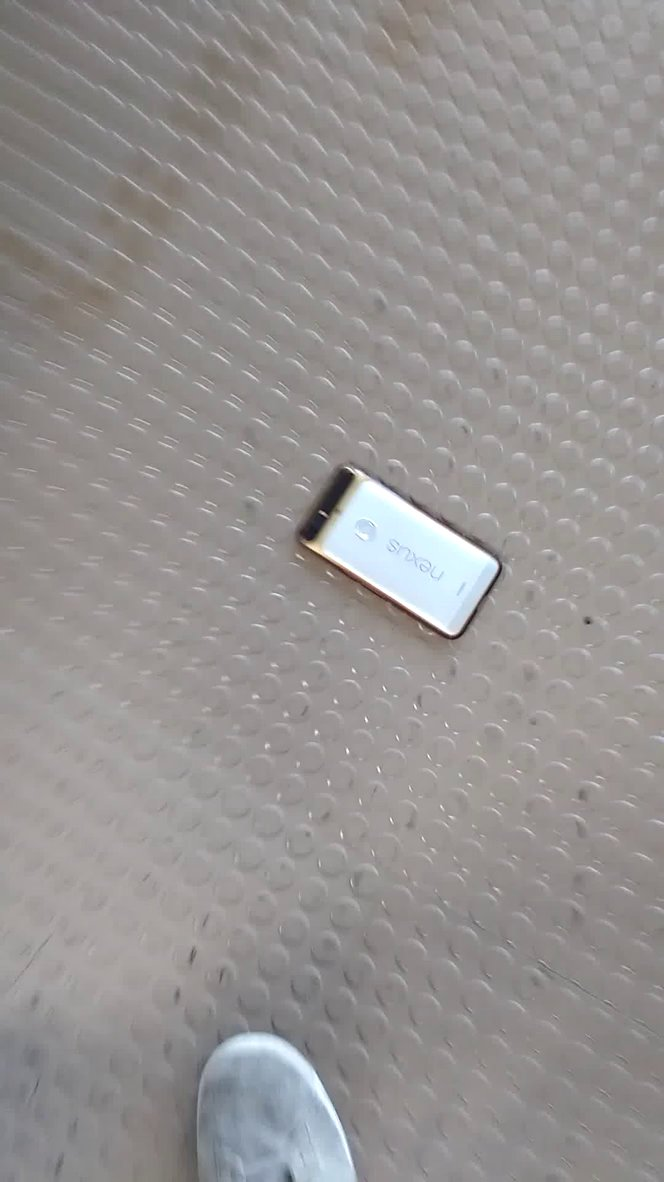phone: (285, 455, 518, 652)
